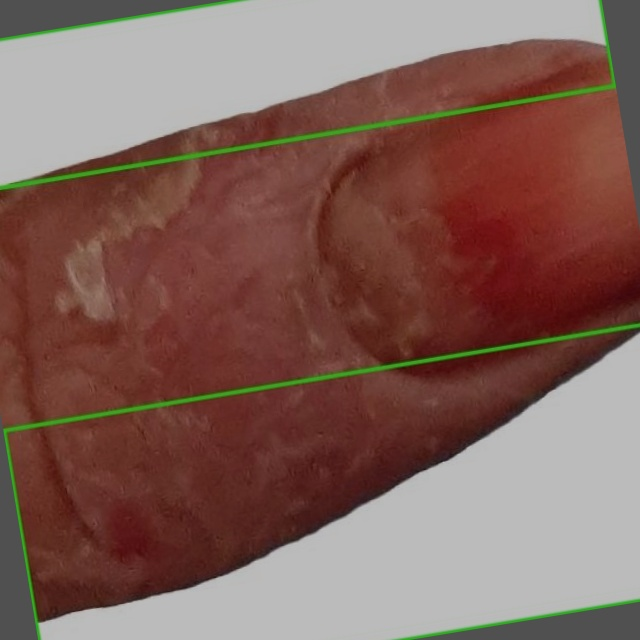Contact Dermatitis: (4, 325, 639, 639), (0, 0, 615, 187)
